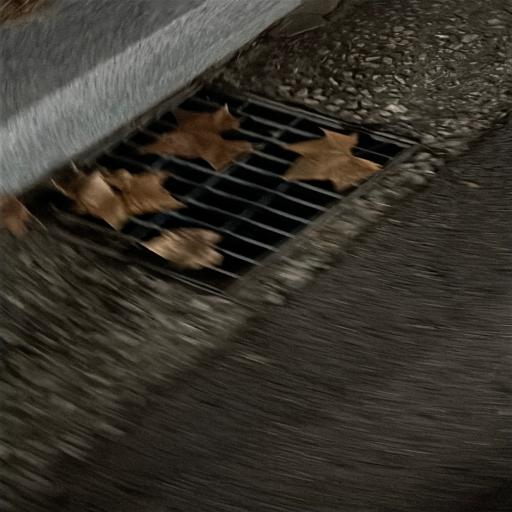debris: (47, 167, 183, 237), (139, 106, 259, 172), (2, 202, 119, 256), (279, 129, 382, 190), (144, 228, 222, 267), (224, 265, 260, 294), (163, 102, 176, 110), (61, 215, 78, 221)
drain: (0, 82, 417, 296)
